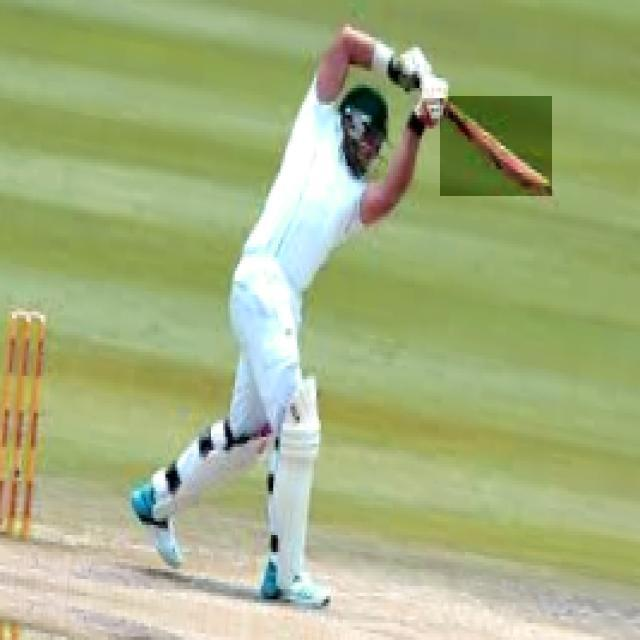bat: (441, 98, 551, 195)
toe: (535, 175, 551, 195)
